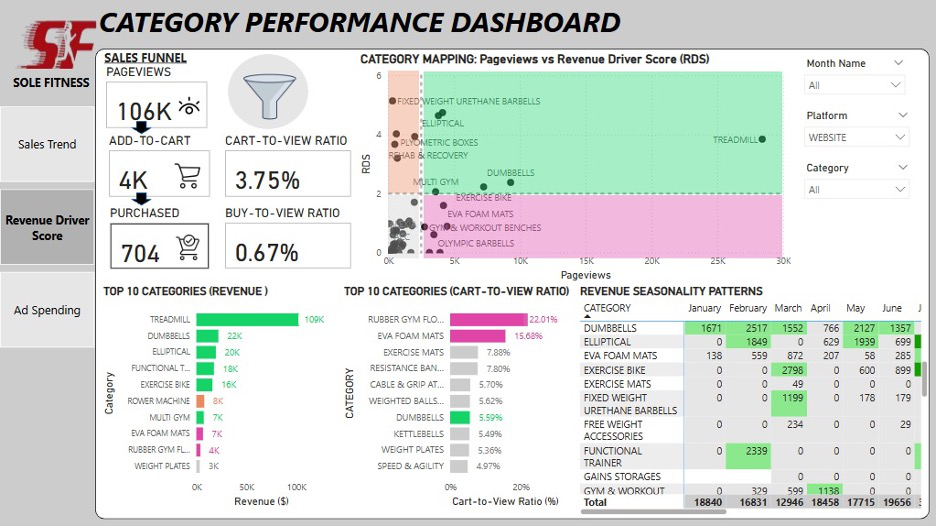

What the dashboard file says about the page in this screenshot:
{"tool":"powerbi","page":{"name":" Category Performance","canvas":[1280,720],"ordinal":1},"visuals":[{"type":"shape","box":[0,0,1280,720.6],"z":0},{"type":"shape","box":[129.9,67.1,1140.2,642.1],"z":1000},{"type":"textbox","box":[129.9,0,973.2,74.2],"z":2000},{"type":"image","box":[10,10,129.9,134.1],"z":3000},{"type":"shape","box":[0,95.6,129.9,45.7],"z":4000},{"type":"textbox","box":[0,97,139.8,37.1],"z":5000},{"type":"cardVisual","title":"ADD-TO-CART","fields":{"Data":["Sum(RAW DATA.ITEMS ADDED TO CART)"]},"box":[143.8,182.5,148.8,92.5],"z":6000},{"type":"cardVisual","title":"PURCHASED","fields":{"Data":["Sum(RAW DATA.ITEMS PURCHASED)"]},"box":[145,281.2,146.2,92.5],"z":7000},{"type":"clusteredBarChart","title":"TOP 10 CATEGORIES (REVENUE )","fields":{"Category":["RAW DATA.CATEGORY"],"Y":["Sum(RAW DATA.ITEM REVENUE)"]},"box":[136.2,388.8,328.8,308.8],"z":8000},{"type":"cardVisual","title":"PAGEVIEWS","fields":{"Data":["Sum(RAW DATA.ITEMS VIEWED)"]},"box":[140,88.8,148.8,92.5],"z":9000},{"type":"scatterChart","title":"CATEGORY MAPPING: Pageviews vs Revenue Driver Score (RDS)","fields":{"X":["Sum(RAW DATA.ITEMS VIEWED)"],"Category":["RAW DATA.CATEGORY"],"Y":["RAW DATA.CategoryRDS"]},"box":[487.2,71.2,597.5,317.5],"z":10000},{"type":"shape","box":[578.5,98.8,490,167.5],"z":11000},{"type":"shape","box":[578.5,267.5,490,86.2],"z":12000},{"type":"shape","box":[529.8,97.5,42.5,167.5],"z":13000},{"type":"shape","box":[529.8,267.5,42.5,86.2],"z":14000},{"type":"pivotTable","title":"REVENUE SEASONALITY PATTERNS","fields":{"Rows":["RAW DATA.CATEGORY"],"Columns":["RAW DATA.MONTH.Variation.Date Hierarchy.Month"],"Values":["Sum(RAW DATA.ITEM REVENUE)"]},"box":[787.5,388.8,485,320],"z":15000},{"type":"slicer","fields":{"Values":["RAW DATA.PLATFORM"]},"box":[1088.8,146.2,163.8,71.2],"z":16000},{"type":"slicer","fields":{"Values":["RAW DATA.Month Name"]},"box":[1088.8,75,157.5,70],"z":17000},{"type":"shape","box":[89.5,451.4,32.4,22.8],"z":18000},{"type":"shape","box":[178.8,263.8,29,18],"z":19000},{"type":"clusteredBarChart","title":"TOP 10 CATEGORIES (CART-TO-VIEW RATIO)","fields":{"Category":["RAW DATA.CATEGORY"],"Y":["RAW DATA.Cart-to-View Ratio (%)"]},"box":[465,388.8,317.5,308.8],"z":20000},{"type":"textbox","box":[137.5,63.8,146.2,33.8],"z":21000},{"type":"shape","box":[195.9,308.4,22.8,26.7],"z":22000},{"type":"image","box":[232.5,218.8,47.5,45],"z":23000},{"type":"image","box":[237.5,126.2,42.5,38],"z":24000},{"type":"image","box":[228.8,316.2,55,45],"z":25000},{"type":"shape","box":[311.5,74.7,110.4,102.8],"z":26000},{"type":"image","box":[327.4,56.3,81.9,154.2],"z":27000},{"type":"cardVisual","title":"CART-TO-VIEW RATIO","fields":{"Data":["RAW DATA.Cart-to-View Ratio (%)"]},"box":[302.5,182.5,182.5,92.5],"z":28000},{"type":"cardVisual","title":"BUY-TO-VIEW RATIO","fields":{"Data":["RAW DATA.Buy_to_View_Ratio"]},"box":[302.5,281.2,182.5,91.2],"z":29000},{"type":"bookmarkNavigator","box":[0,146.4,129.7,330.1],"z":30000},{"type":"shape","box":[178.8,166.2,29,18],"z":31000},{"type":"slicer","fields":{"Values":["RAW DATA.CATEGORY"]},"box":[1088.8,217.5,163.8,71.2],"z":32000}]}

Visuals, with their boxes in screenshot pixels (x1, y1, x2, y2), scaled from the page's 1280x720 canvas onto the 936x526 screenshot:
shape: <bbox>0, 0, 935, 525</bbox>
shape: <bbox>95, 49, 929, 518</bbox>
textbox: <bbox>95, 0, 807, 54</bbox>
image: <bbox>7, 7, 102, 105</bbox>
shape: <bbox>0, 70, 95, 103</bbox>
textbox: <bbox>0, 71, 102, 98</bbox>
"ADD-TO-CART" cardVisual: <bbox>105, 133, 214, 201</bbox>
"PURCHASED" cardVisual: <bbox>106, 205, 213, 273</bbox>
"TOP 10 CATEGORIES (REVENUE )" clusteredBarChart: <bbox>100, 284, 340, 510</bbox>
"PAGEVIEWS" cardVisual: <bbox>102, 65, 211, 132</bbox>
"CATEGORY MAPPING: Pageviews vs Revenue Driver Score (RDS)" scatterChart: <bbox>356, 52, 793, 284</bbox>
shape: <bbox>423, 72, 781, 195</bbox>
shape: <bbox>423, 195, 781, 258</bbox>
shape: <bbox>387, 71, 418, 194</bbox>
shape: <bbox>387, 195, 418, 258</bbox>
"REVENUE SEASONALITY PATTERNS" pivotTable: <bbox>576, 284, 931, 518</bbox>
slicer - RAW DATA.PLATFORM: <bbox>796, 107, 916, 159</bbox>
slicer - RAW DATA.Month Name: <bbox>796, 55, 911, 106</bbox>
shape: <bbox>65, 330, 89, 346</bbox>
shape: <bbox>131, 193, 152, 206</bbox>
"TOP 10 CATEGORIES (CART-TO-VIEW RATIO)" clusteredBarChart: <bbox>340, 284, 572, 510</bbox>
textbox: <bbox>101, 47, 207, 71</bbox>
shape: <bbox>143, 225, 160, 245</bbox>
image: <bbox>170, 160, 205, 193</bbox>
image: <bbox>174, 92, 205, 120</bbox>
image: <bbox>167, 231, 208, 264</bbox>
shape: <bbox>228, 55, 309, 130</bbox>
image: <bbox>239, 41, 299, 154</bbox>
"CART-TO-VIEW RATIO" cardVisual: <bbox>221, 133, 355, 201</bbox>
"BUY-TO-VIEW RATIO" cardVisual: <bbox>221, 205, 355, 272</bbox>
bookmarkNavigator: <bbox>0, 107, 95, 348</bbox>
shape: <bbox>131, 121, 152, 135</bbox>
slicer - RAW DATA.CATEGORY: <bbox>796, 159, 916, 211</bbox>
